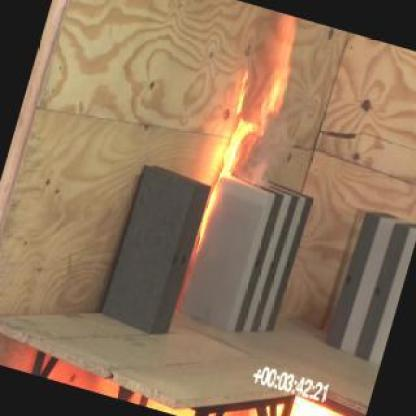Fire: (190, 64, 272, 257)
